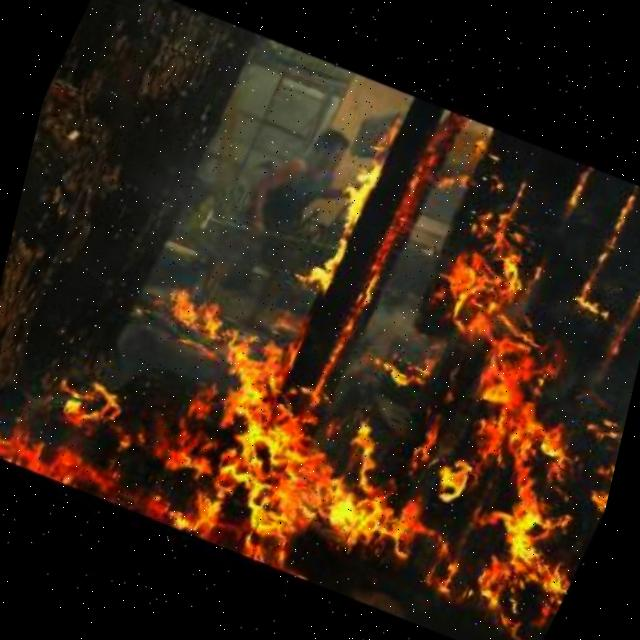fire: (56, 133, 613, 592)
